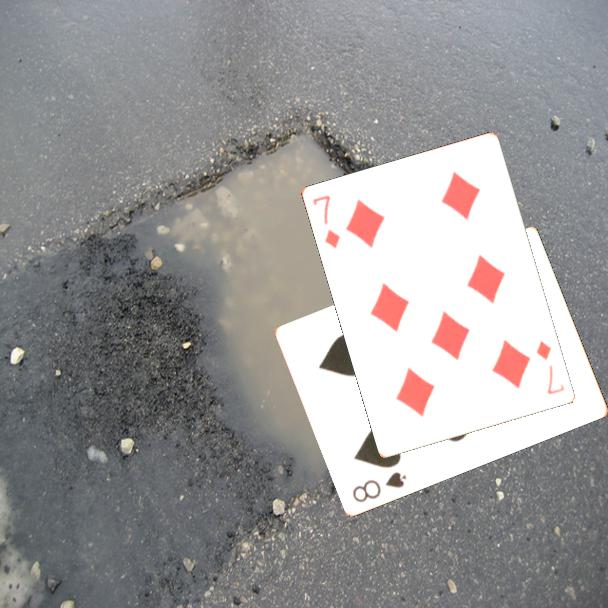d07: (533, 337, 568, 398), (310, 191, 343, 252)
s08: (349, 468, 410, 505)
